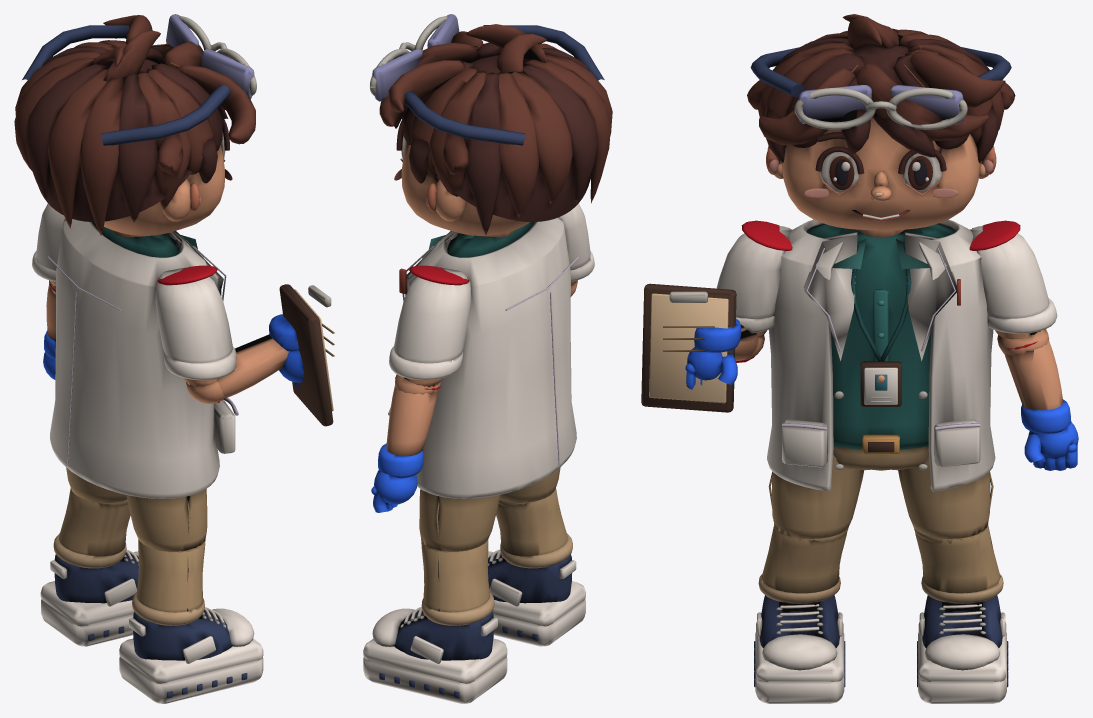
File: npc.lab-tech-a.glb
3 renders of one model, left to right at view 1: azimuth 30°, elevation 25°; view 2: azimuth 150°, elevation 25°; view 3: azimuth 270°, elevation 25°, orthographic. The views are drawn at different scales.
Visible parts, largest first — view 1: head, torso, footR, footL, armR, handR, shinR, shinL, legR, foreArmR, armL, legL (+1 smaller); view 2: head, torso, footL, footR, armL, shinL, shinR, legL, foreArmL, handL, armR, legR (+1 smaller); view 3: torso, head, handR, footL, footR, armL, shinR, shinL, legR, legL, armR, foreArmL (+4 smaller).
Boxes of the visible parts, left/top/right/bottom form: head: left=14, top=14, right=256, bottom=237; torso: left=47, top=219, right=238, bottom=498; footR: left=119, top=607, right=263, bottom=703; footL: left=40, top=549, right=138, bottom=646; armR: left=155, top=267, right=236, bottom=386; handR: left=269, top=284, right=334, bottom=426; shinR: left=132, top=539, right=205, bottom=625; shinL: left=53, top=488, right=130, bottom=568; legR: left=126, top=489, right=207, bottom=551; foreArmR: left=186, top=334, right=288, bottom=403; armL: left=32, top=203, right=65, bottom=285; legL: left=66, top=467, right=127, bottom=502; head: left=370, top=14, right=612, bottom=237; torso: left=388, top=217, right=578, bottom=498; footL: left=363, top=607, right=507, bottom=703; footR: left=487, top=549, right=585, bottom=646; armL: left=389, top=267, right=471, bottom=387; shinL: left=421, top=539, right=494, bottom=625; shinR: left=496, top=488, right=572, bottom=568; legL: left=419, top=489, right=500, bottom=551; foreArmL: left=386, top=374, right=440, bottom=456; handL: left=371, top=443, right=423, bottom=512; armR: left=559, top=203, right=594, bottom=285; legR: left=499, top=467, right=560, bottom=502; torso: left=767, top=219, right=995, bottom=491; head: left=747, top=14, right=1015, bottom=237; handR: left=641, top=283, right=741, bottom=412; footL: left=917, top=595, right=1008, bottom=703; footR: left=754, top=595, right=845, bottom=703; armL: left=970, top=225, right=1057, bottom=339; shinR: left=758, top=524, right=848, bottom=603; shinL: left=914, top=524, right=1003, bottom=603; legR: left=768, top=455, right=864, bottom=538; legL: left=898, top=455, right=993, bottom=538; armR: left=716, top=225, right=792, bottom=337; foreArmL: left=997, top=329, right=1063, bottom=410.
Bounding box in the file's own units: 0.4782 × 1.37 × 0.8308.
